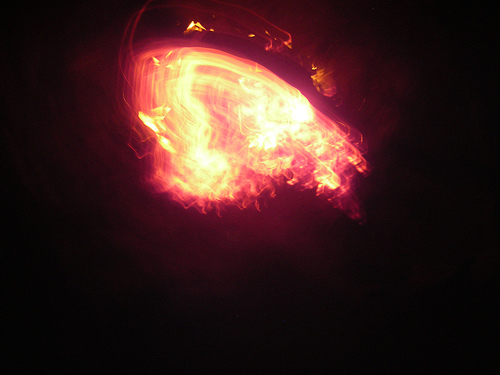fire: (143, 46, 361, 195)
